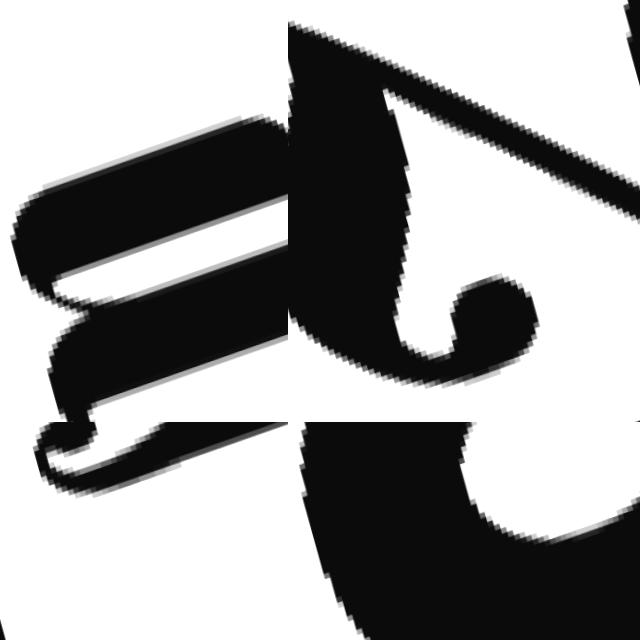A: (0, 0, 288, 422)
J: (16, 422, 288, 528)
O: (288, 422, 640, 640)
Z: (288, 0, 640, 422)
